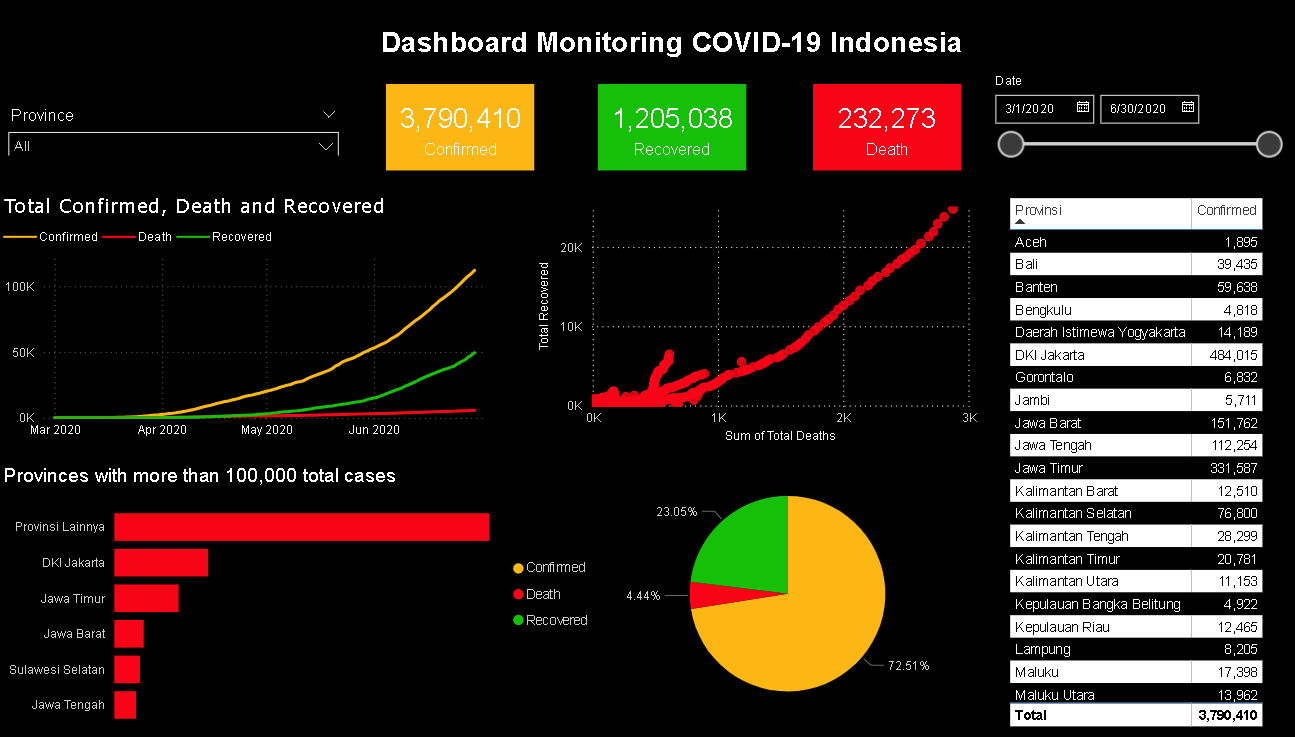

What the dashboard file says about the page in this screenshot:
{"tool":"powerbi","page":{"name":"Covid-19","canvas":[1280,720],"ordinal":0},"visuals":[{"type":"lineChart","title":"Total Confirmed, Death and Recovered","fields":{"Y":["Sum(covid_19_indonesia_time_series_all.Total Cases)","Sum(covid_19_indonesia_time_series_all.Total Deaths)","Sum(covid_19_indonesia_time_series_all.Total Recovered)"],"Category":["covid_19_indonesia_time_series_all.Date"]},"box":[1,189.6,492.8,247.4],"z":0},{"type":"card","fields":{"Values":["Sum(covid_19_indonesia_time_series_all.Total Cases)"]},"box":[376.8,83.5,143.7,84.5],"z":1000},{"type":"card","fields":{"Values":["Sum(covid_19_indonesia_time_series_all.Total Recovered)"]},"box":[582.7,83.5,143.7,84.5],"z":2000},{"type":"card","fields":{"Values":["Sum(covid_19_indonesia_time_series_all.Total Deaths)"]},"box":[791.5,83.5,143.7,84.5],"z":3000},{"type":"tableEx","fields":{"Values":["covid_19_indonesia_time_series_all.Province","Sum(covid_19_indonesia_time_series_all.Total Cases)"]},"box":[977,189.4,303,523.5],"z":4000},{"type":"textbox","box":[153.4,22.3,1001.3,44.7],"z":5000},{"type":"clusteredBarChart","title":"Provinces with more than 100,000 total cases","fields":{"Y":["Sum(covid_19_indonesia_time_series_all.Total Cases)"],"Category":["covid_19_indonesia_time_series_all.Province"]},"box":[0,451.6,494.3,268],"z":6000},{"type":"pieChart","fields":{"Y":["Sum(covid_19_indonesia_time_series_all.Total Cases)","Sum(covid_19_indonesia_time_series_all.Total Deaths)","Sum(covid_19_indonesia_time_series_all.Total Recovered)"]},"box":[493.8,444,461.9,269.4],"z":7000},{"type":"slicer","fields":{"Values":["covid_19_indonesia_time_series_all.Province"]},"box":[0,99.1,340.9,54.4],"z":8000},{"type":"slicer","fields":{"Values":["covid_19_indonesia_time_series_all.Date"]},"box":[955.8,66.8,300.3,98.8],"z":9000},{"type":"scatterChart","fields":{"X":["Sum(covid_19_indonesia_time_series_all.Total Deaths)"],"Y":["covid_19_indonesia_time_series_all.Total Recovered"]},"box":[520.8,189.6,435,247.4],"z":10000}]}

Visuals, with their boxes in screenshot pixels (x1, y1, x2, y2), scaled from the page's 1280x720 canvas onto the 1295x737 screenshot:
"Total Confirmed, Death and Recovered" lineChart: crop(1, 194, 500, 447)
card - Sum(covid_19_indonesia_time_series_all.Total Cases): crop(381, 85, 527, 172)
card - Sum(covid_19_indonesia_time_series_all.Total Recovered): crop(590, 85, 735, 172)
card - Sum(covid_19_indonesia_time_series_all.Total Deaths): crop(801, 85, 946, 172)
tableEx - covid_19_indonesia_time_series_all.Province x Sum(covid_19_indonesia_time_series_all.Total Cases): crop(988, 194, 1294, 730)
textbox: crop(155, 23, 1168, 69)
"Provinces with more than 100,000 total cases" clusteredBarChart: crop(0, 462, 500, 736)
pieChart - Sum(covid_19_indonesia_time_series_all.Total Cases) x Sum(covid_19_indonesia_time_series_all.Total Deaths): crop(500, 454, 967, 730)
slicer - covid_19_indonesia_time_series_all.Province: crop(0, 101, 345, 157)
slicer - covid_19_indonesia_time_series_all.Date: crop(967, 68, 1271, 170)
scatterChart - Sum(covid_19_indonesia_time_series_all.Total Deaths) x covid_19_indonesia_time_series_all.Total Recovered: crop(527, 194, 967, 447)
